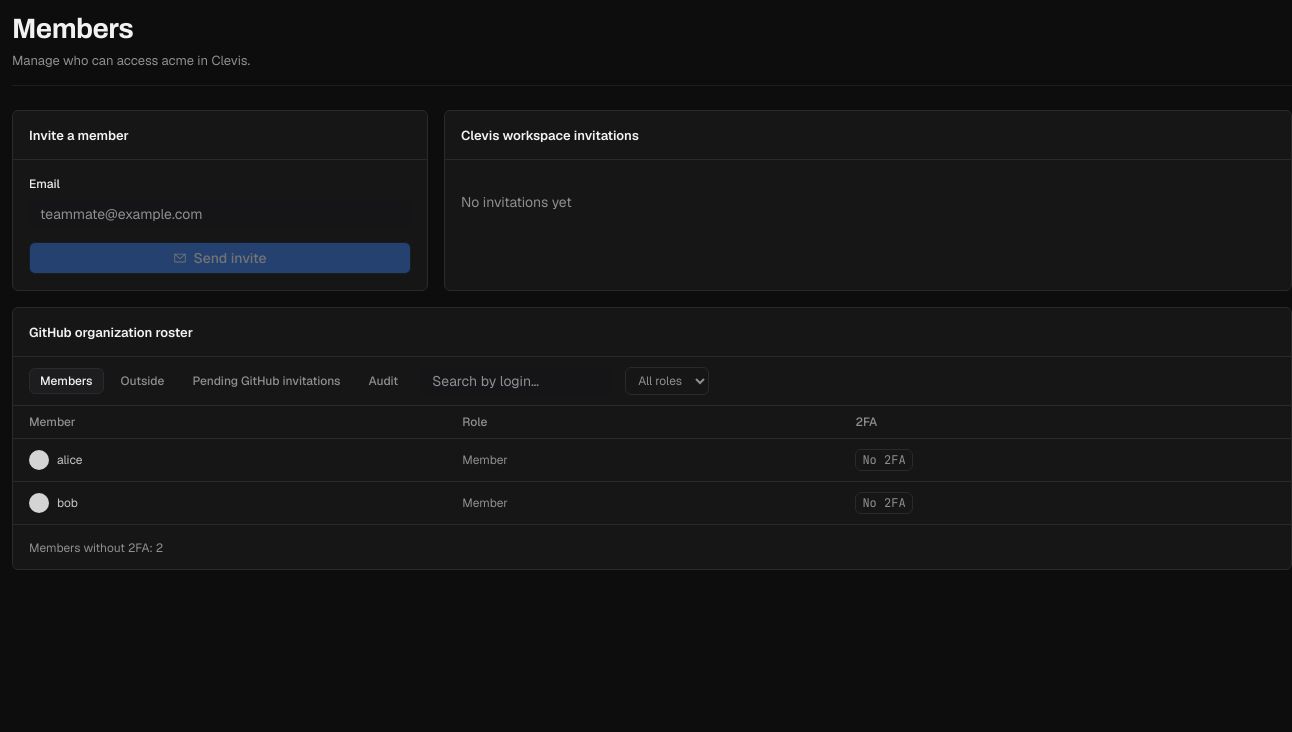
GithubRoster (Collaborators page) › recomputes the 'Members without 2FA' count from the search-filtered members, not the full roster
Check: the text "Members without 2FA: 2" is shown, box [29, 540, 163, 556]
In the field with placeholder "Search by login…": (517, 382) [421, 368, 613, 396], type "alice"
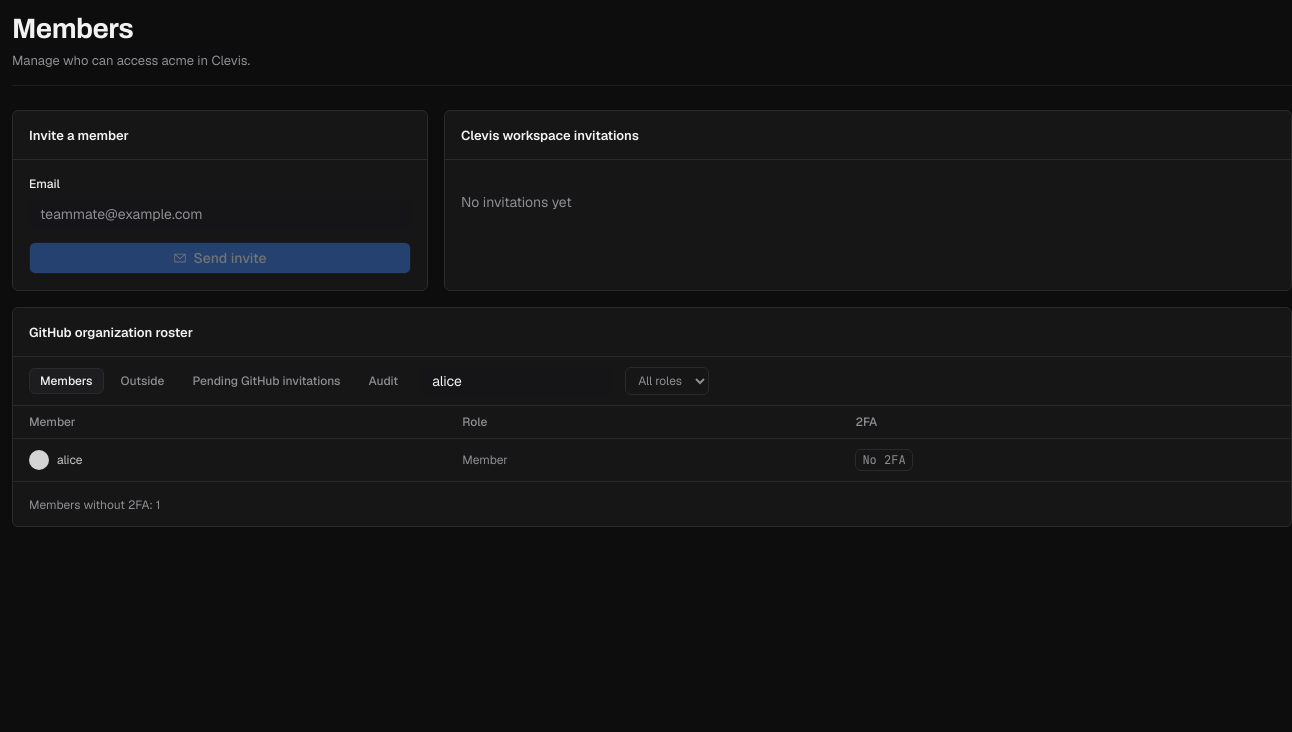
Check: the text "Members without 2FA: 1" is shown, box [29, 498, 160, 514]
Check: the link "bob" is gone
